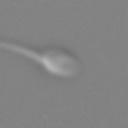abnormal: (1, 32, 44, 63)
